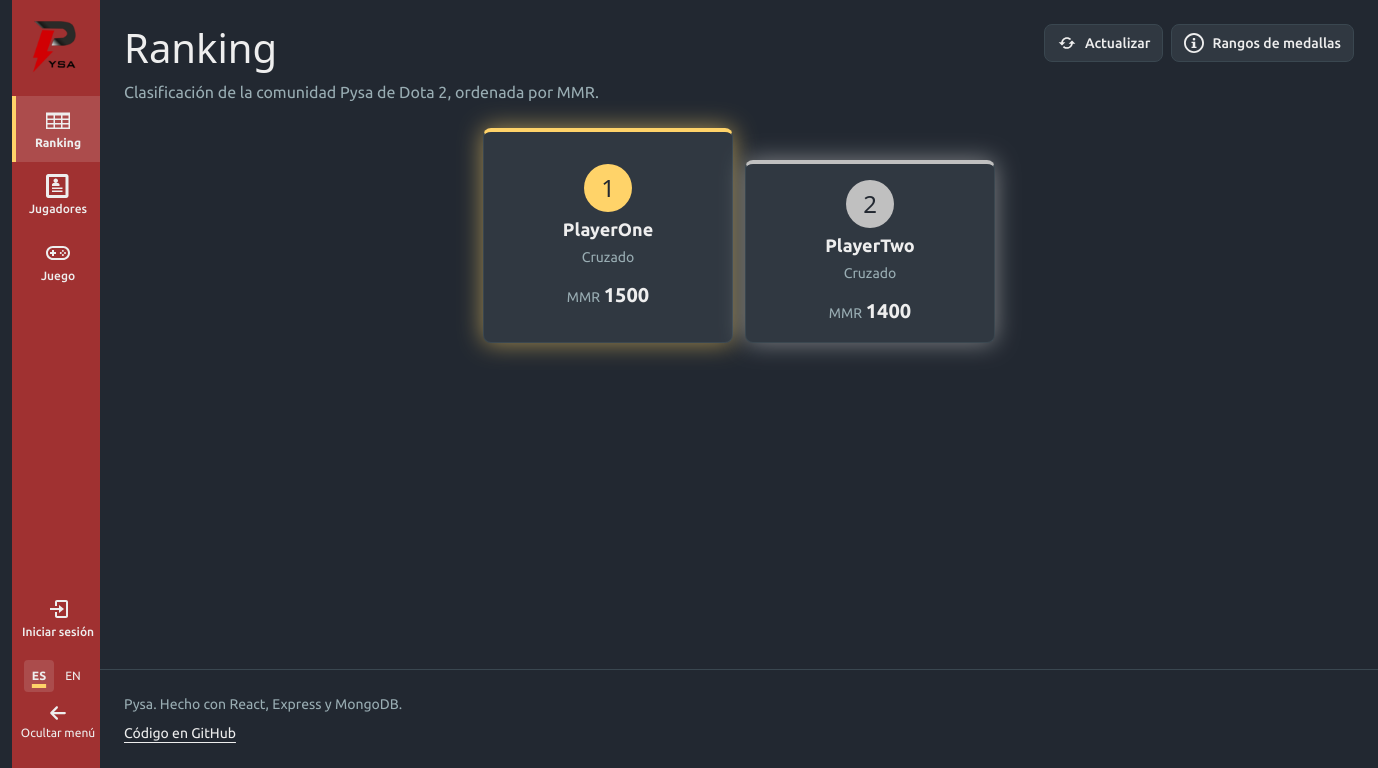
Test: app shell › the link of the current page is marked with aria-current
The image size is (1378, 768).
Expected: the text "PlayerOne" is shown, left=563, top=216, right=653, bottom=243
Click the link "Jugadores" at [58, 195], box left=29, top=174, right=87, bottom=215
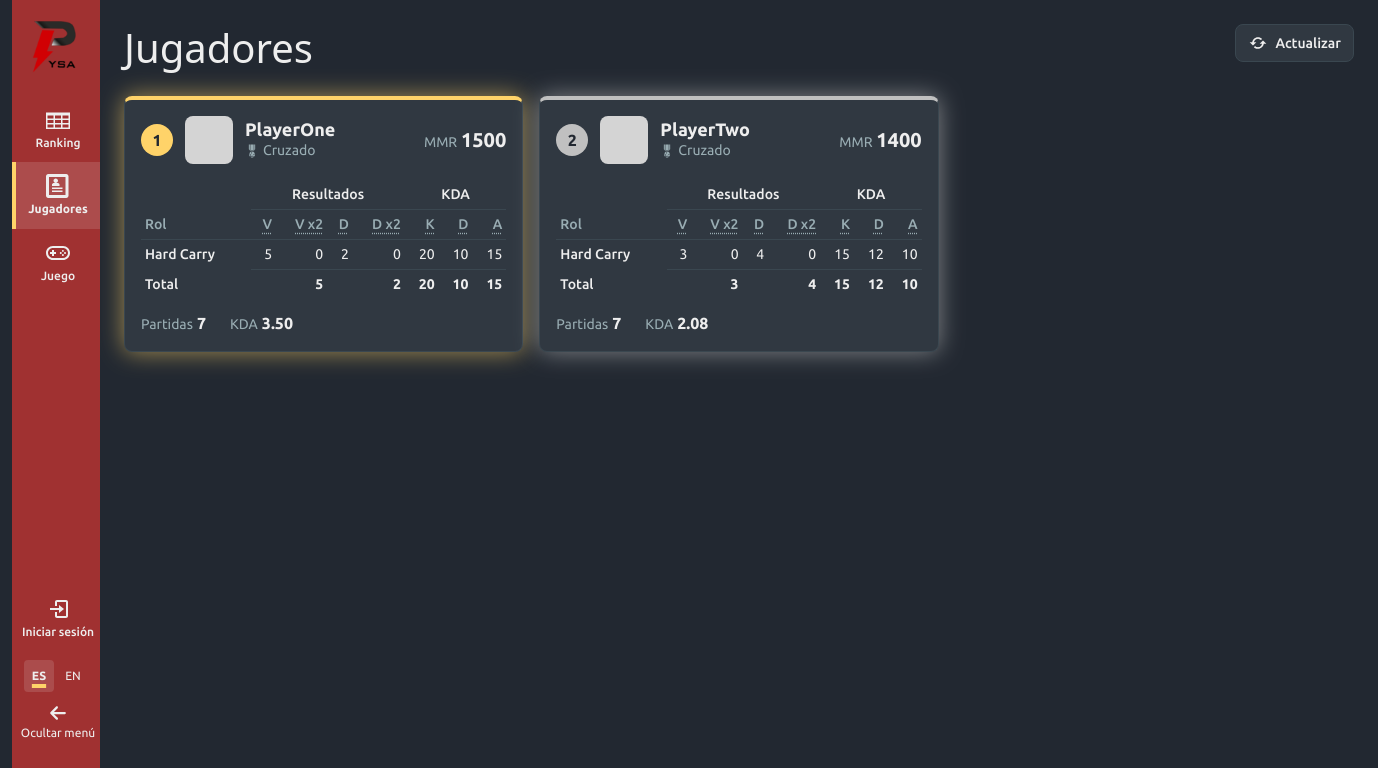
Expected: the heading "Jugadores" is shown, left=124, top=20, right=313, bottom=75
